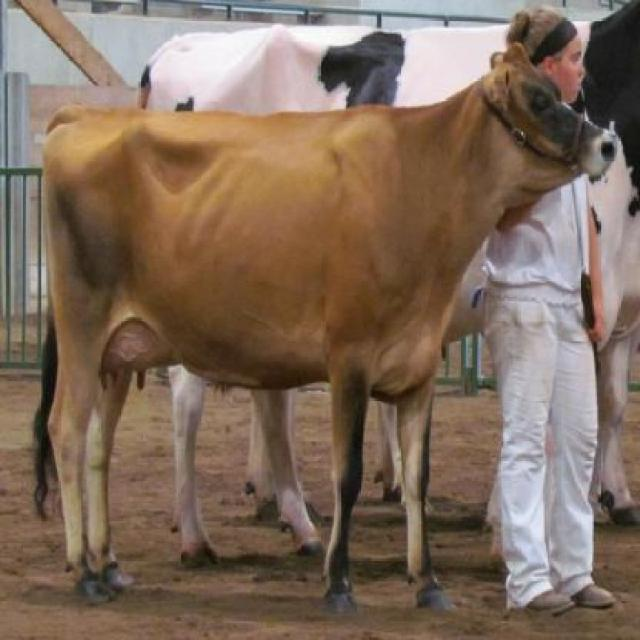Cow: (32, 46, 620, 597)
